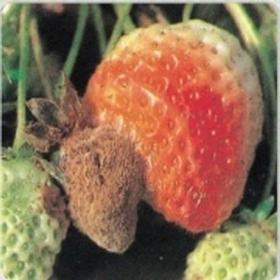Gray Mold: (21, 71, 148, 254)
